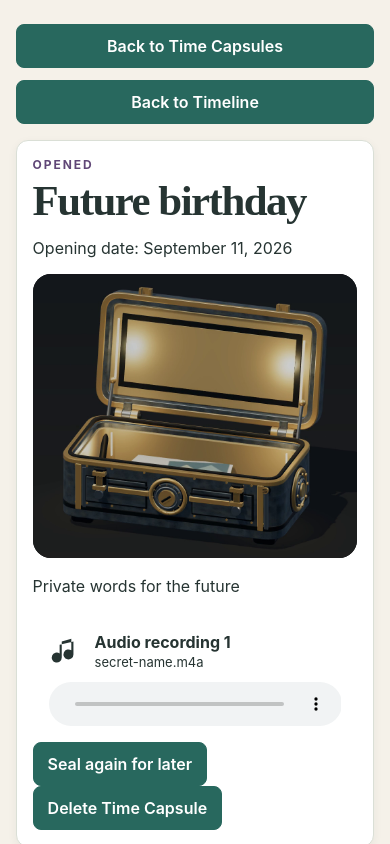
reseals opened content for a future cycle while preserving identity and cleaning up playback
The image size is (390, 844).
Click the button "Seal again for later" at x=120, y=764, box top-left (33, 742), bottom-right (207, 786)
(page scrolled)
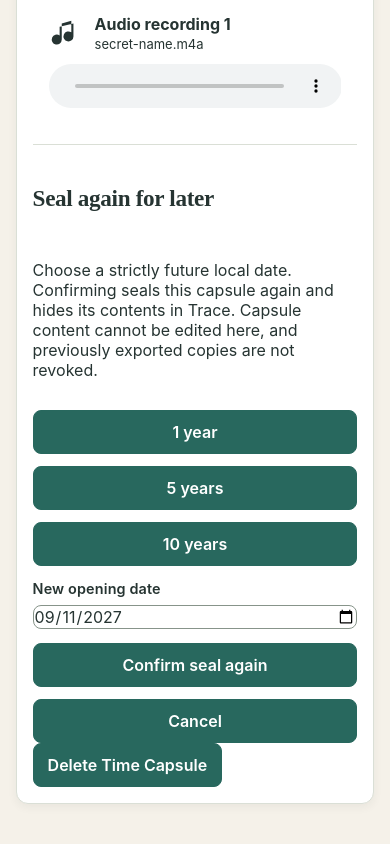
Expected: the button "1 year" is shown, top-left (33, 410), bottom-right (357, 454)
Expected: the button "5 years" is shown, top-left (33, 466), bottom-right (357, 510)
Expected: the button "10 years" is shown, top-left (33, 522), bottom-right (357, 566)
Type "2028-04-17" into the date field labelled "New opening date" at x=195, y=617, box top-left (33, 605), bottom-right (357, 629)
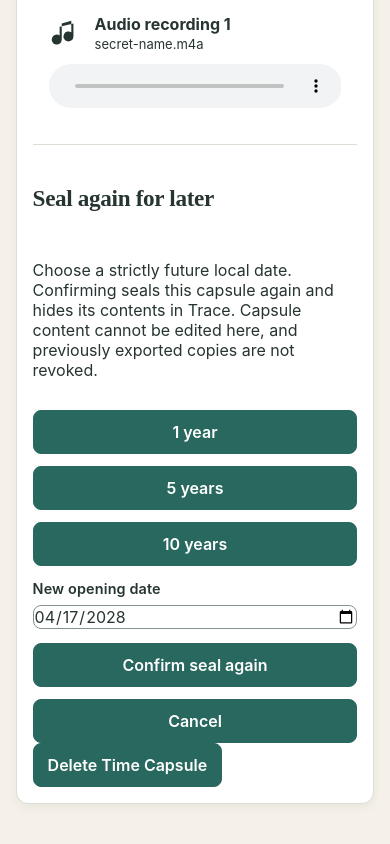
Click the button "Confirm seal again" at x=195, y=665, box top-left (33, 643), bottom-right (357, 687)
(page scrolled)
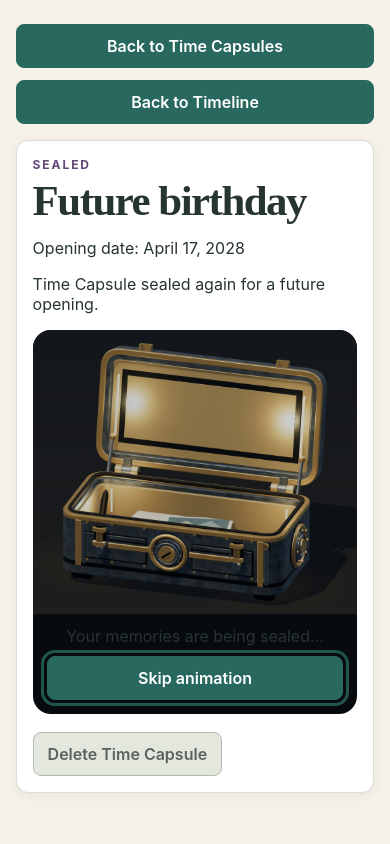
Expected: the text "Your memories are being sealed…" is shown, top-left (47, 626), bottom-right (343, 646)
Click the button "Skip animation" at x=195, y=678, box top-left (47, 656), bottom-right (343, 700)
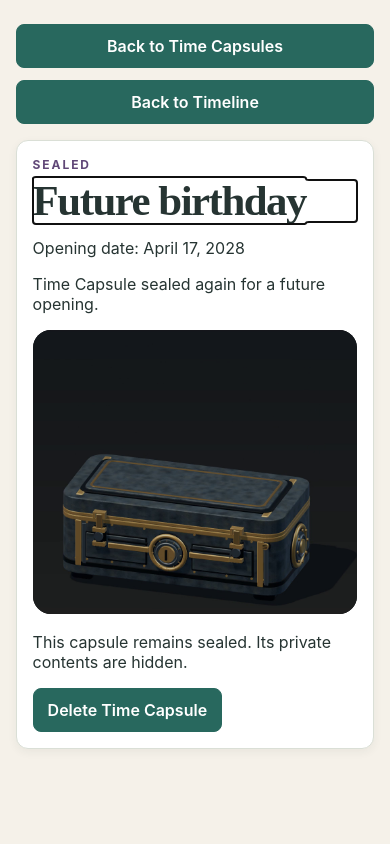
Expected: the text "Private words for the future" is not shown
Expected: the text "This capsule remains sealed. Its private contents are hidden." is shown, top-left (33, 632), bottom-right (357, 672)
